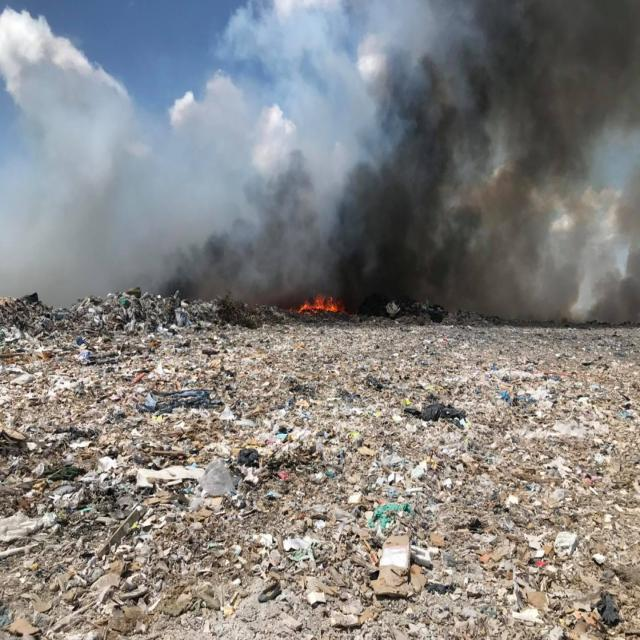Fire: (294, 291, 342, 316)
Smoke: (121, 0, 634, 324)
